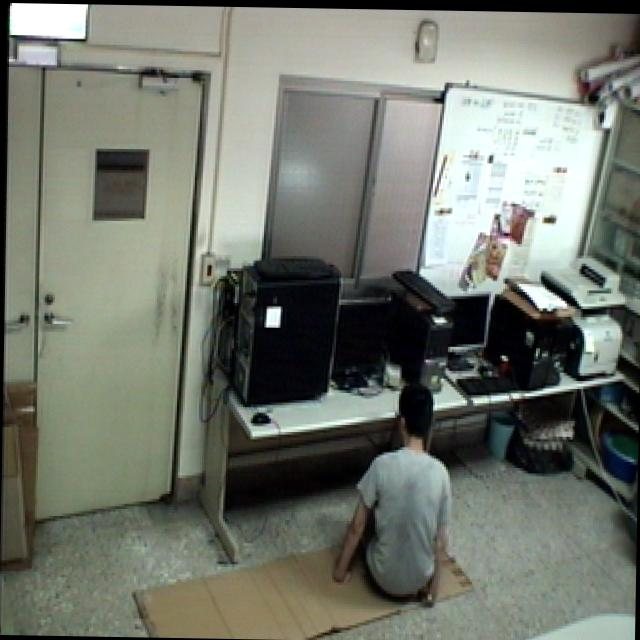sit: (330, 374, 464, 614)
